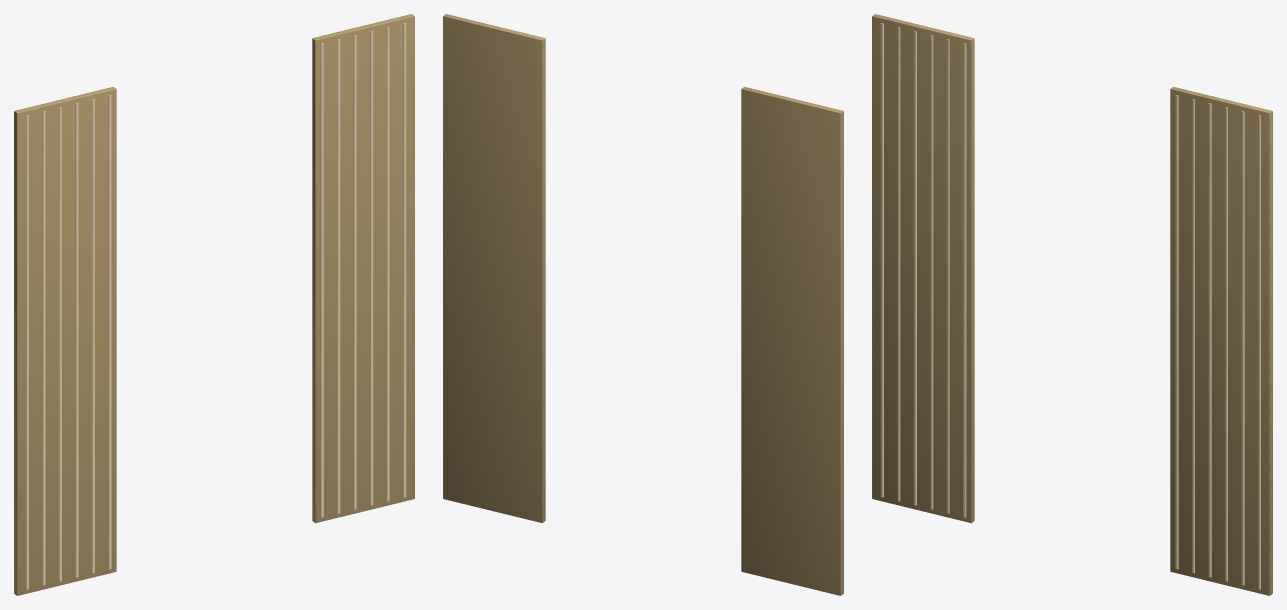
Rendered from landing_door_TM021.glb.
3 renders of one model, left to right at view 1: azimuth 30°, elevation 25°; view 2: azimuth 150°, elevation 25°; view 3: azimuth 330°, elevation 25°, orthographic.
Visible parts, largest first — view 1: Landing_Door_L, Landing_Door_R; view 2: Landing_Door_L, Landing_Door_R; view 3: Landing_Door_L, Landing_Door_R.
Boxes of the visible parts, x1=… form: Landing_Door_L: x1=14, y1=86, x2=116, y2=595; Landing_Door_R: x1=312, y1=14, x2=414, y2=523; Landing_Door_L: x1=741, y1=86, x2=843, y2=595; Landing_Door_R: x1=443, y1=14, x2=545, y2=523; Landing_Door_L: x1=872, y1=14, x2=974, y2=523; Landing_Door_R: x1=1170, y1=86, x2=1272, y2=595.
Size of the model in its own units: 1.81 by 2.1 by 0.029.
